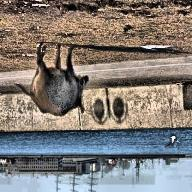boar: (10, 49, 90, 116)
